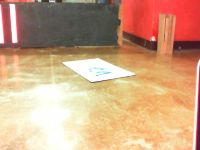switch: (9, 4, 19, 43), (1, 5, 5, 44)
